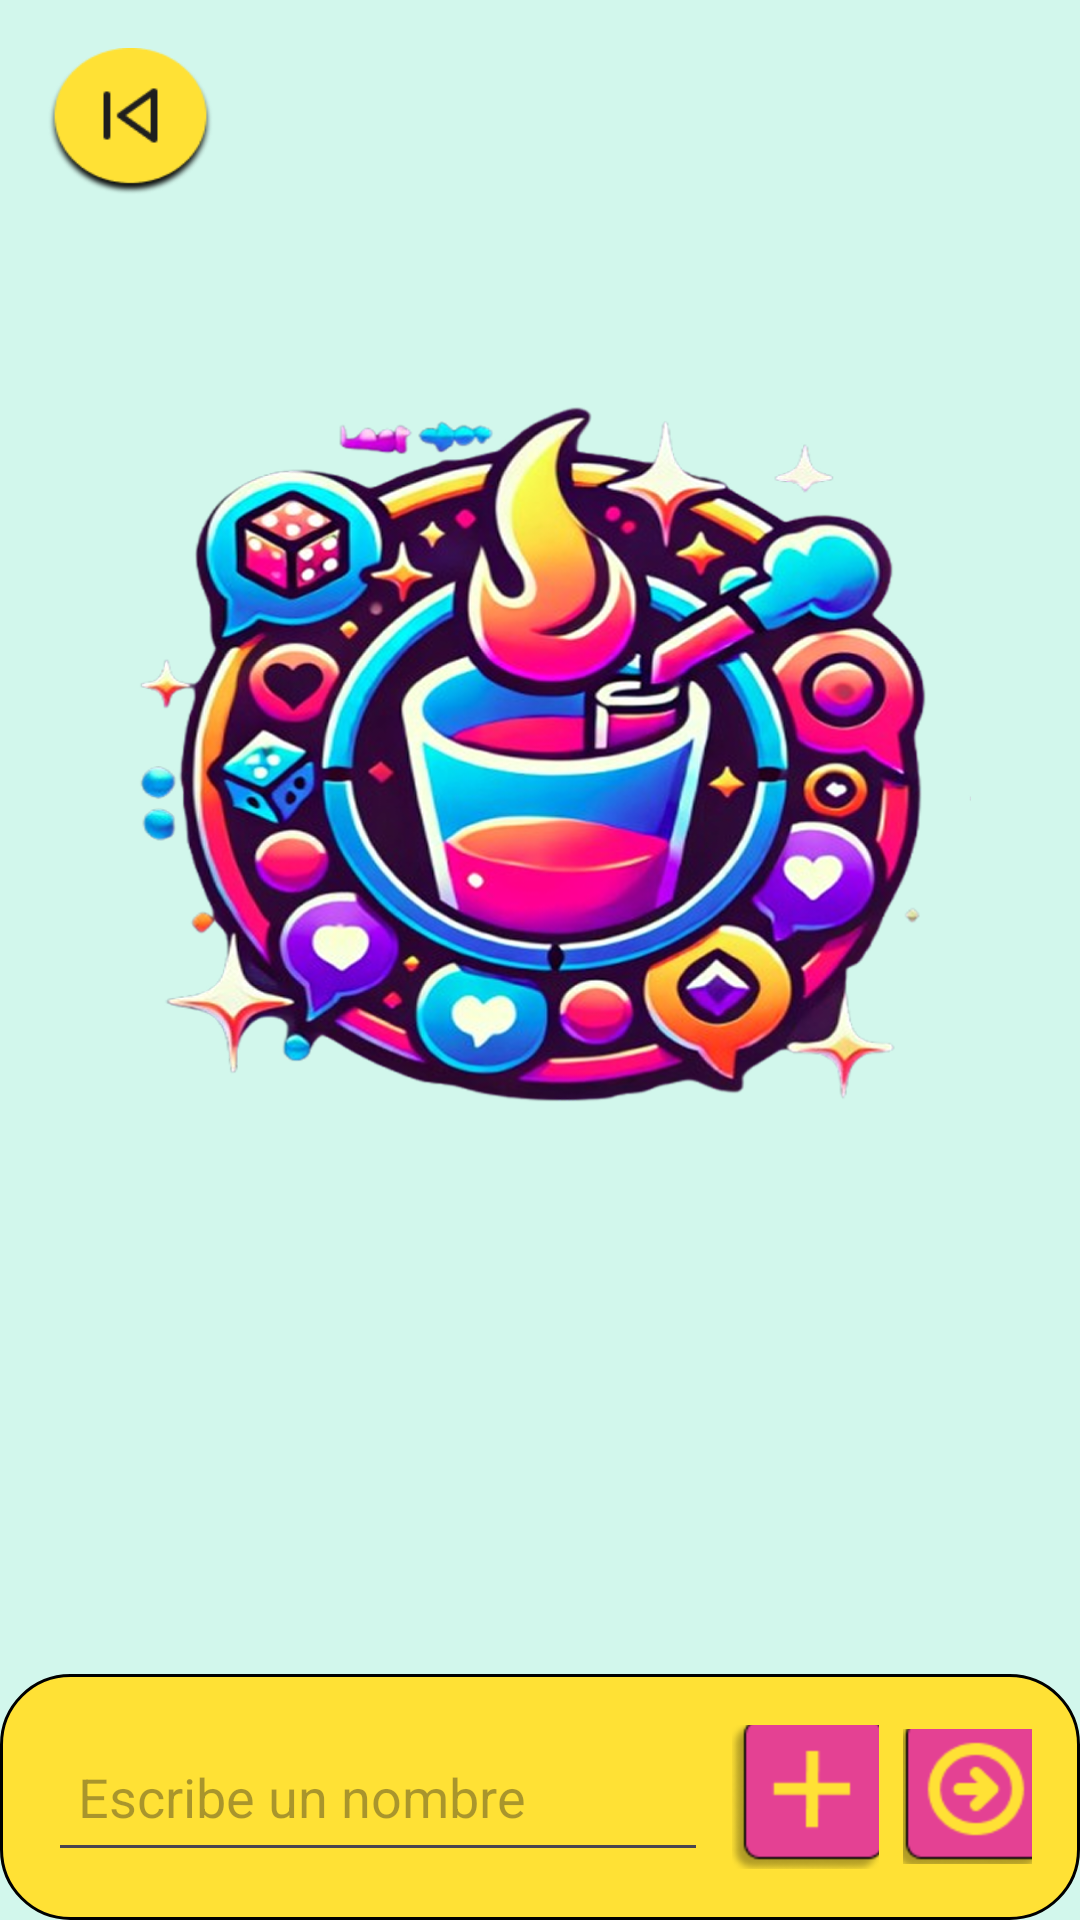

Icons on this 1080x1920 Android screen, each with the point to tap as point (x, y):
Añadir Jugador: point (806, 1797)
back: point (130, 120)
Siguiente: point (967, 1796)
